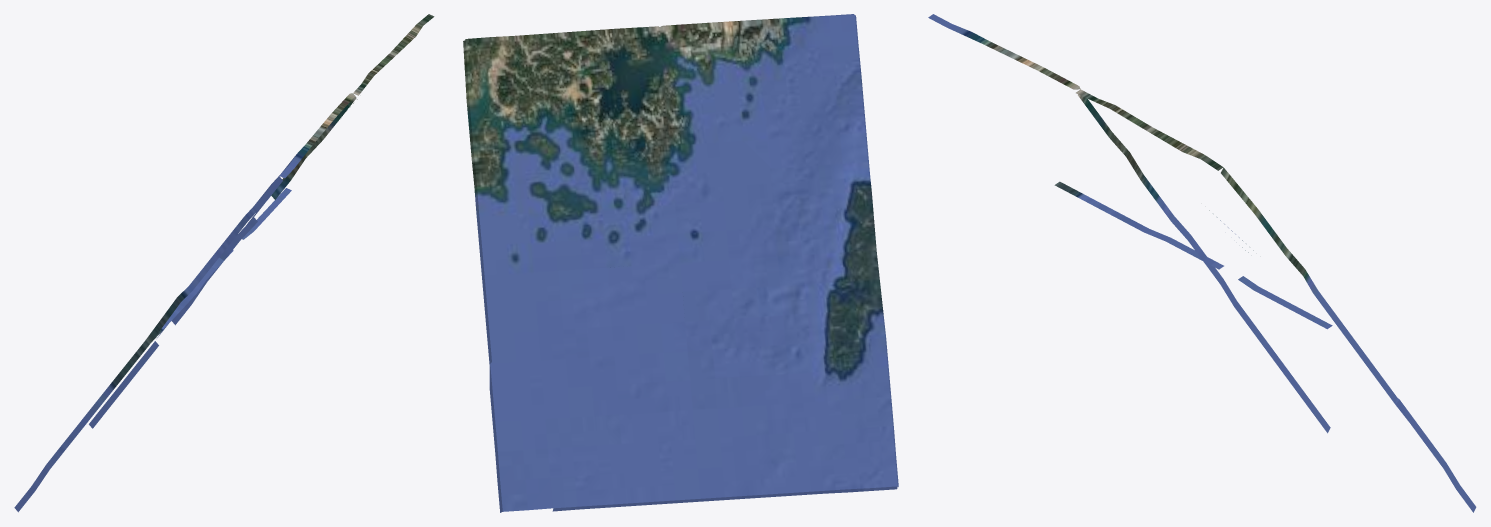
The picture shows the model from 3 angles, left to right: view 1: azimuth 30°, elevation 25°; view 2: azimuth 150°, elevation 25°; view 3: azimuth 270°, elevation 25°; orthographic projection. The views are drawn at different scales.
Size of the model in its own units: 157897 by 131624 by 152107.
1 material, 1 textured.
